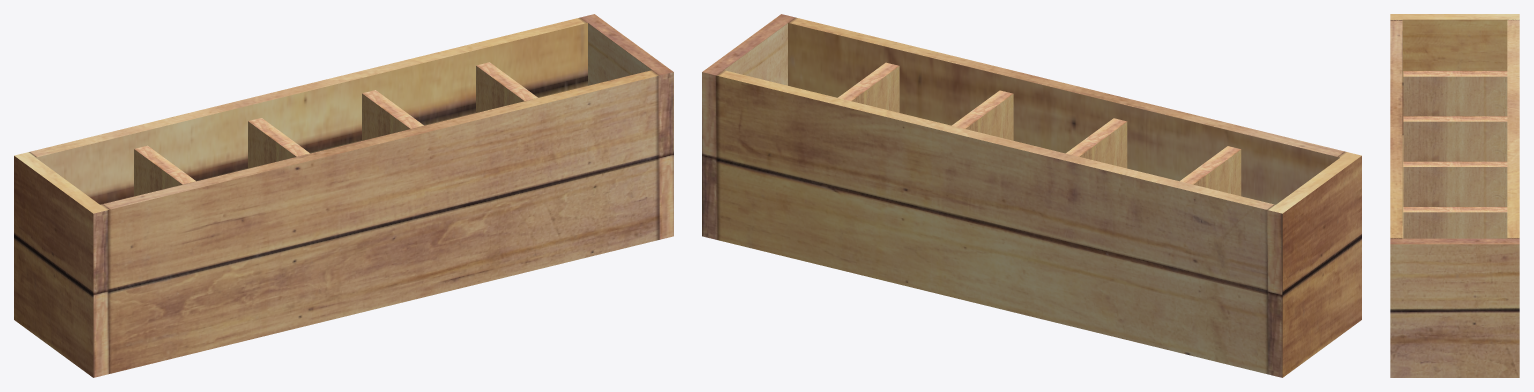
File: Garden Bed 5.fbx
3 renders of one model, left to right at view 1: azimuth 30°, elevation 25°; view 2: azimuth 150°, elevation 25°; view 3: azimuth 270°, elevation 25°, orthographic. The views are drawn at different scales.
Parts seen in each view (by area): view 1: pasted__pasted__pCube5, pasted__pasted__pasted__pCube6 (×2), pasted__pCube6, pasted__pasted__pCube6; view 2: pasted__pasted__pCube5, pasted__pasted__pasted__pCube6 (×2), pasted__pCube6, pasted__pasted__pCube6; view 3: pasted__pasted__pCube5, pasted__pasted__pasted__pCube6 (×2), pasted__pCube6, pasted__pasted__pCube6.
Boxes of the visible parts, bbox=[...] form: pasted__pasted__pCube5: bbox=[14, 14, 673, 377]; pasted__pasted__pasted__pCube6 (×2): bbox=[134, 62, 537, 196]; pasted__pCube6: bbox=[248, 118, 309, 168]; pasted__pasted__pCube6: bbox=[362, 90, 423, 140]; pasted__pasted__pCube5: bbox=[702, 14, 1361, 377]; pasted__pasted__pasted__pCube6 (×2): bbox=[838, 62, 1241, 196]; pasted__pCube6: bbox=[1066, 118, 1127, 168]; pasted__pasted__pCube6: bbox=[952, 90, 1013, 140]; pasted__pasted__pCube5: bbox=[1390, 14, 1519, 377]; pasted__pasted__pasted__pCube6 (×2): bbox=[1403, 71, 1507, 238]; pasted__pCube6: bbox=[1403, 116, 1507, 161]; pasted__pasted__pCube6: bbox=[1403, 161, 1507, 206].
Size of the model in its own units: 194 by 52.34 by 45.82.
